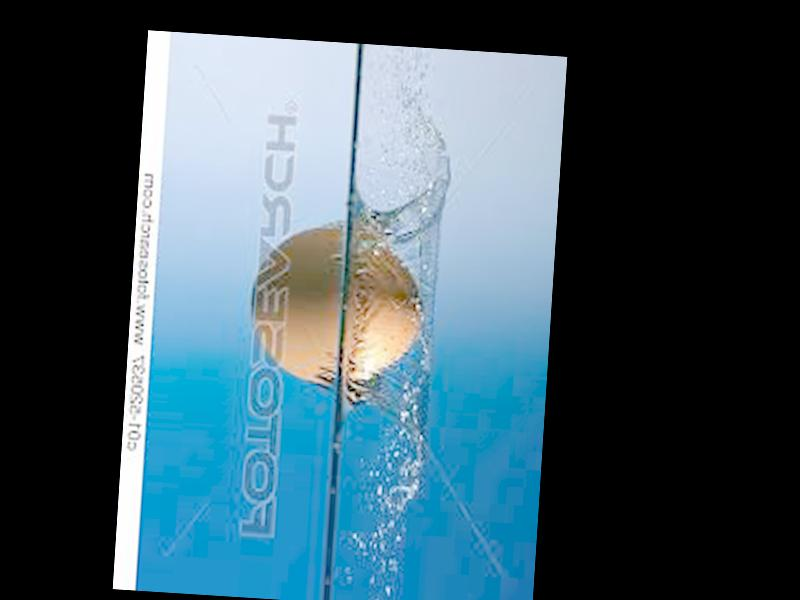Eggs: (248, 221, 428, 389)
